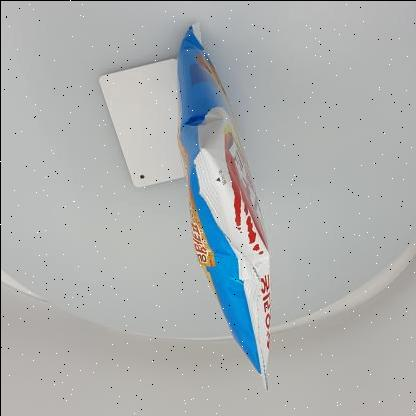Others: (133, 12, 311, 400)
